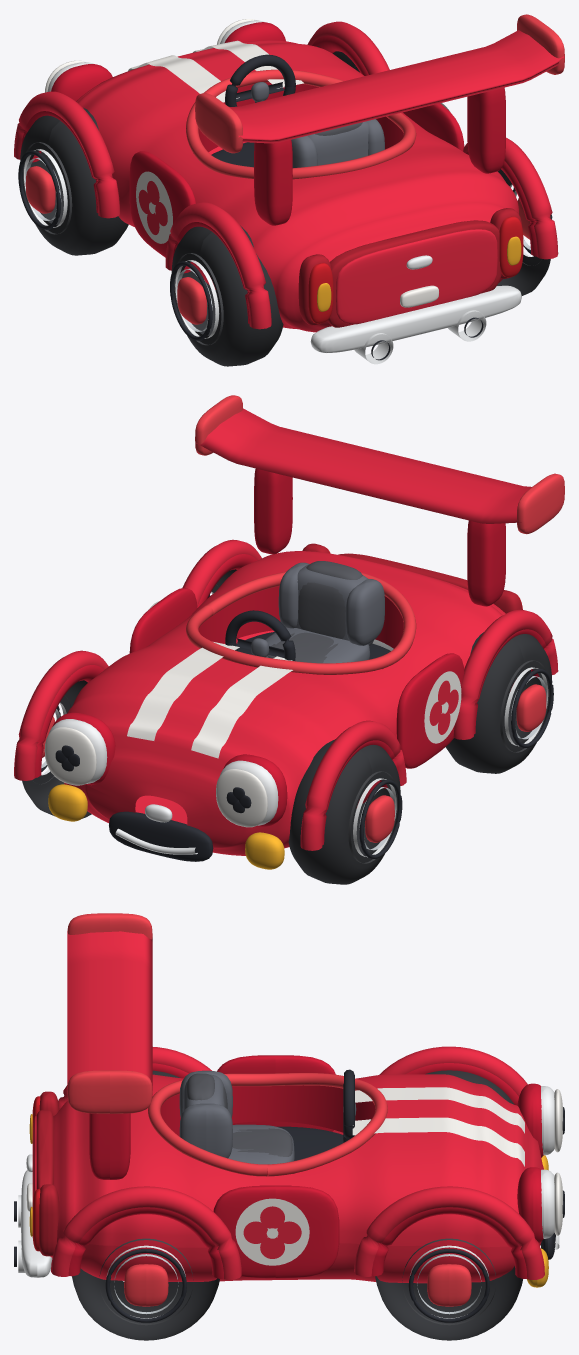
File: red-kart-v2.glb
3 views of the same model, one above another, from view 1: azimuth 30°, elevation 25°; view 2: azimuth 150°, elevation 25°; view 3: azimuth 270°, elevation 25° (orthographic).
Visible parts, largest first — view 1: Red Kart v2; view 2: Red Kart v2; view 3: Red Kart v2.
Boxes of the visible parts, x1,y1,x2,y2 form: Red Kart v2: (14, 14, 564, 366); Red Kart v2: (14, 395, 564, 884); Red Kart v2: (14, 913, 564, 1340).
Bounding box in the file's own units: 2.59 × 1.94 × 3.49.
